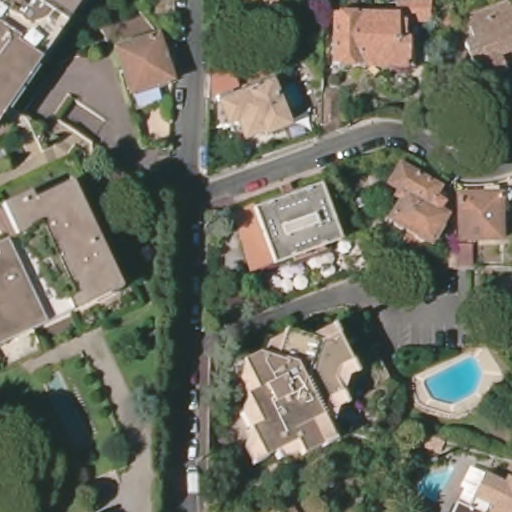pool: (423, 353, 484, 410), (413, 460, 454, 501)
